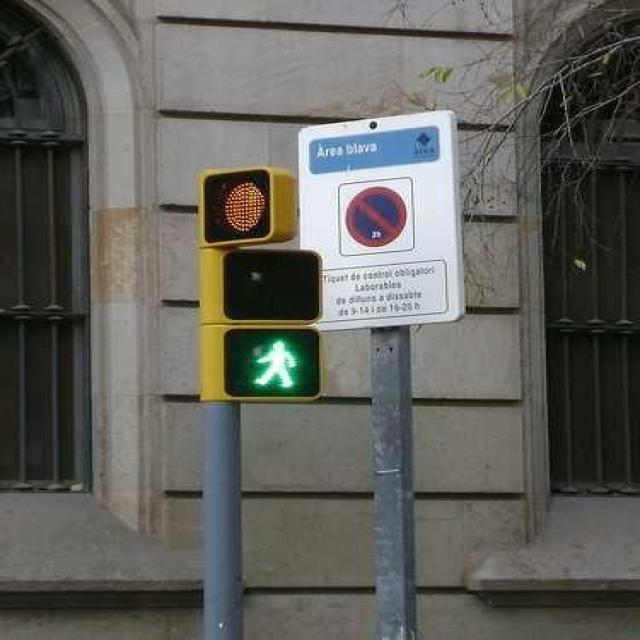Traffic Light -Green-: (205, 331, 327, 395)
Traffic Light -Red-: (195, 166, 294, 252)
